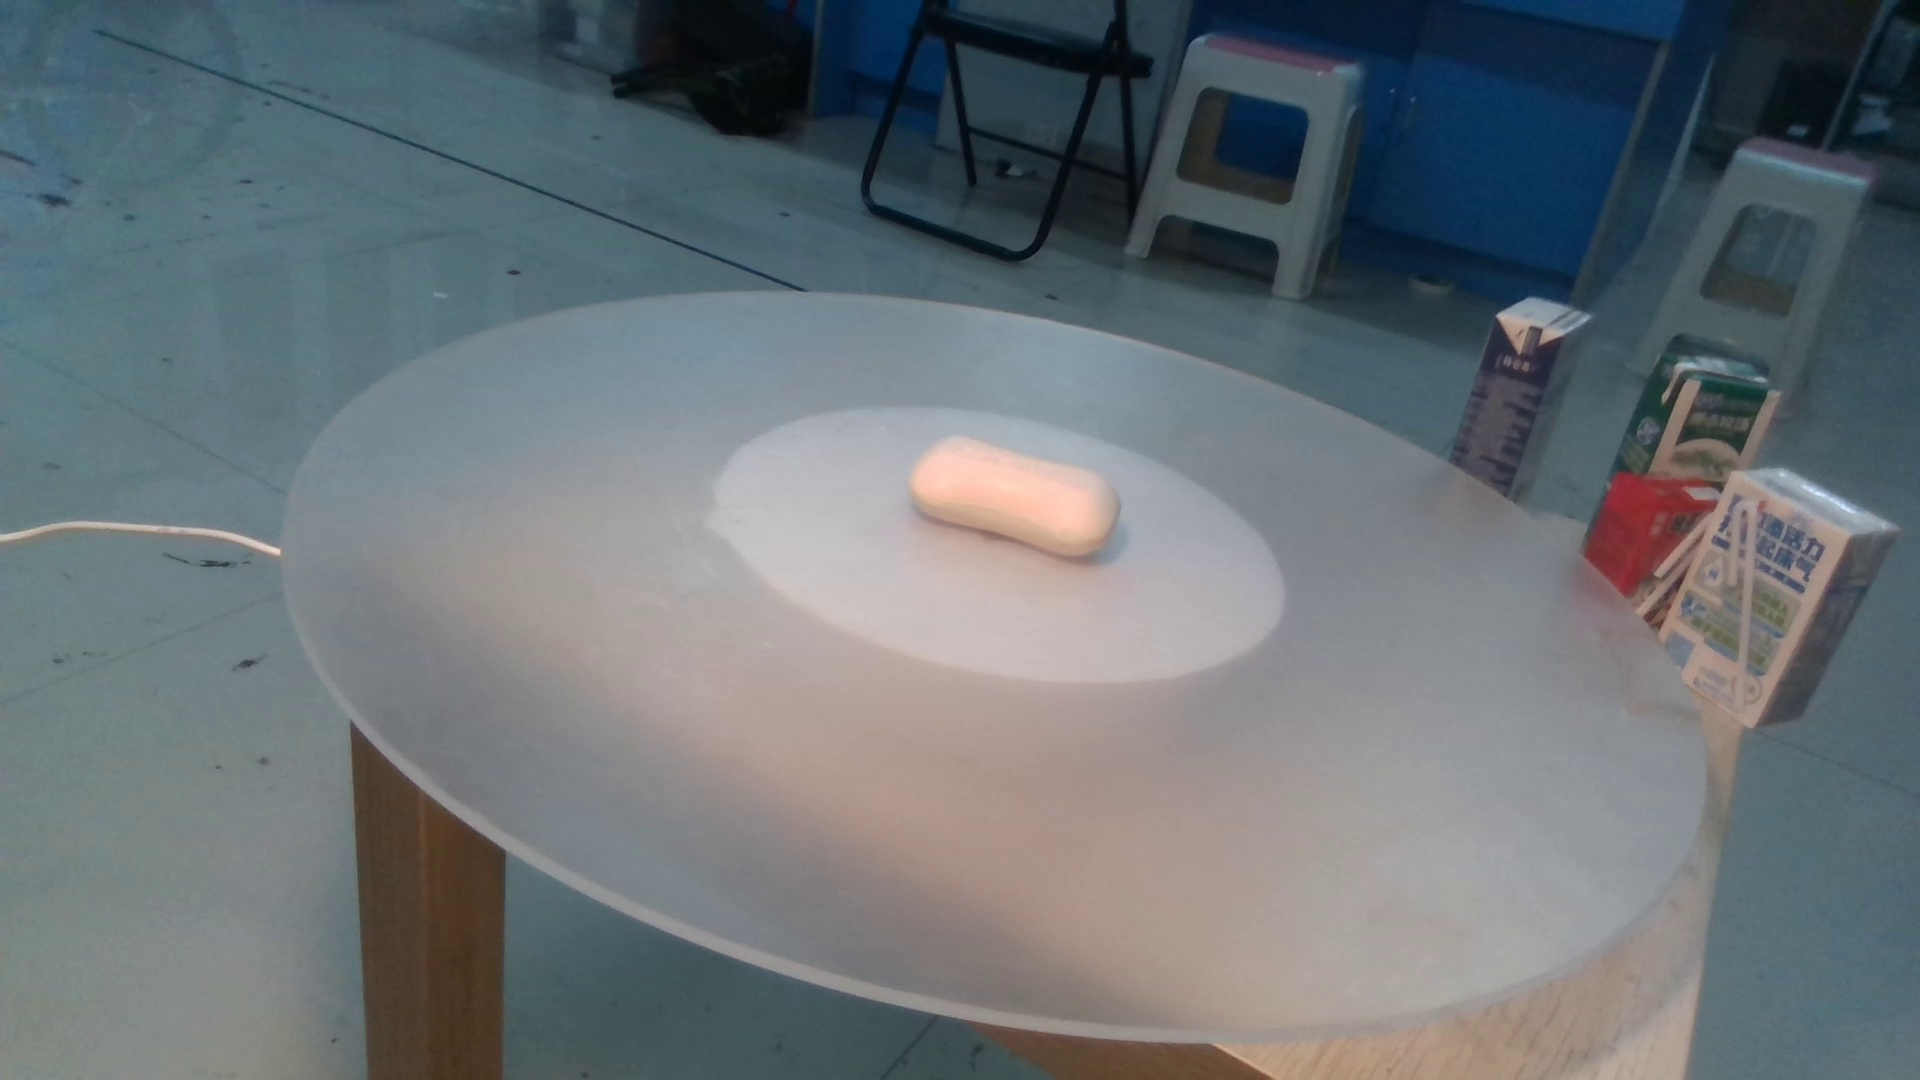CA003_1: (889, 429, 1160, 570)
